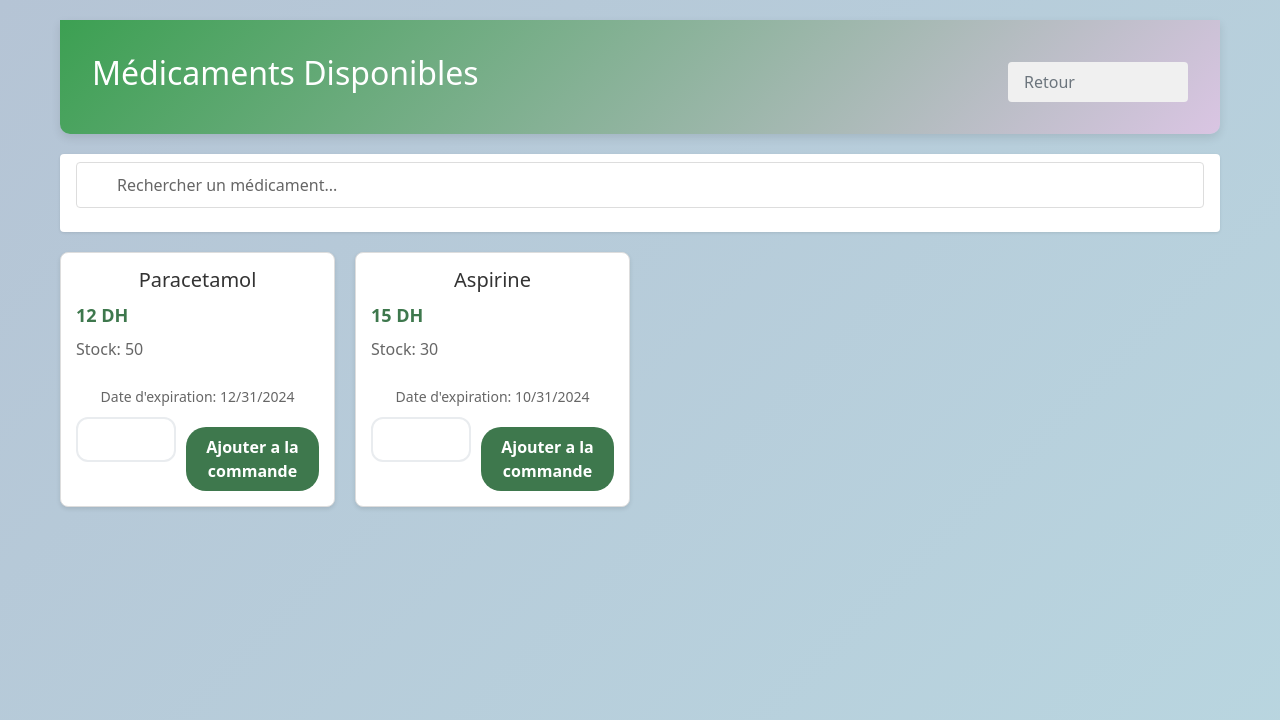
Test: FournisseurMedicaments Component › filters medicaments by search term
Expected: the heading "Médicaments Disponibles" is shown, [92,54,479,92]
Type in the search box
In the field with placeholder "Rechercher un médicament...": (640, 185) [76,162,1204,208], type "para"
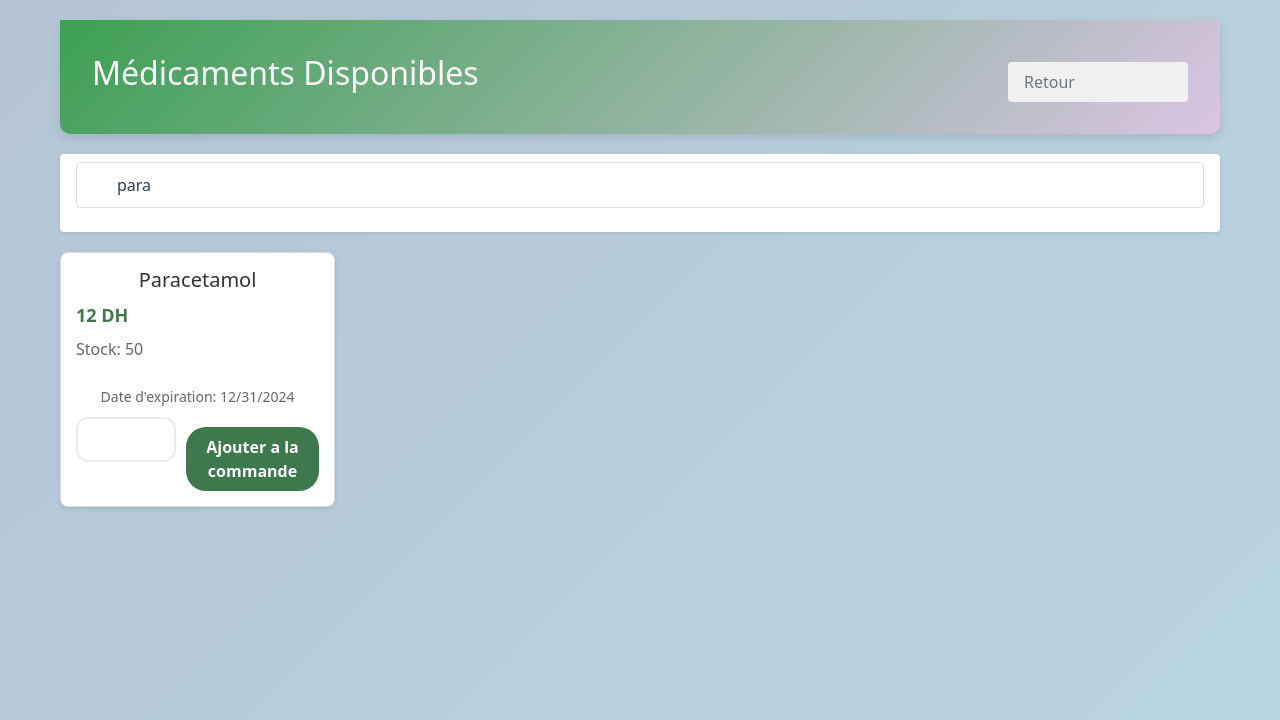
Expected: the heading "Paracetamol" is shown, [139,268,256,292]
Result: the heading "Aspirine" is gone
